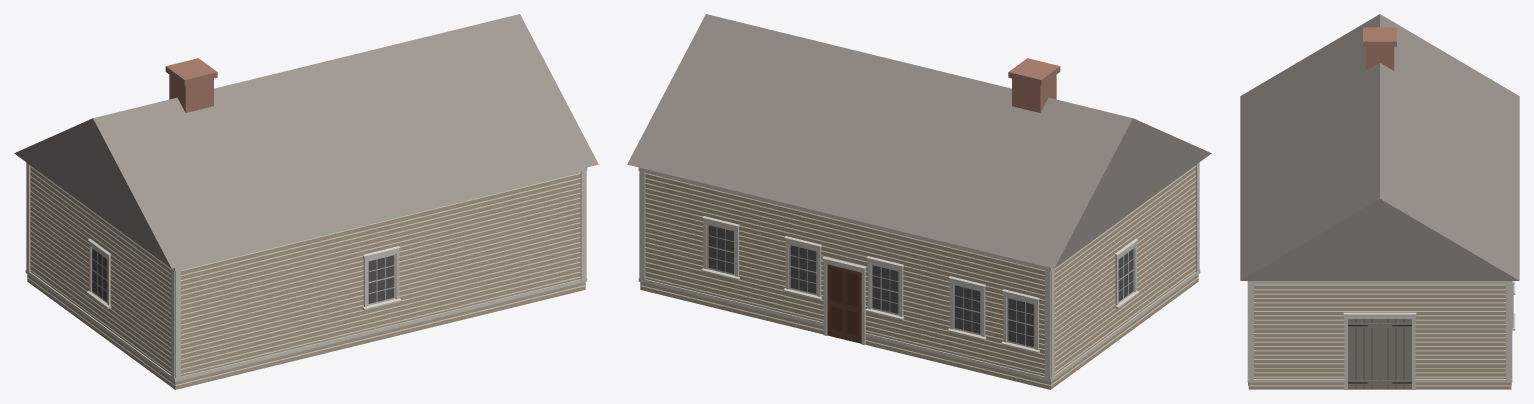
File: bates_auction_room__frame_1834.glb
3 views of the same model, side by side, from view 1: azimuth 30°, elevation 25°; view 2: azimuth 150°, elevation 25°; view 3: azimuth 270°, elevation 25° (orthographic). The views are drawn at different scales.
Parts seen in each view (by area): view 1: bates_auction_room__frame_1834; view 2: bates_auction_room__frame_1834; view 3: bates_auction_room__frame_1834.
Boxes of the visible parts, bbox=[...] form: bates_auction_room__frame_1834: bbox=[14, 14, 598, 389]; bates_auction_room__frame_1834: bbox=[627, 14, 1211, 389]; bates_auction_room__frame_1834: bbox=[1240, 14, 1519, 389].
Bounding box in the file's own units: 12.69 × 6.95 × 8.12.
